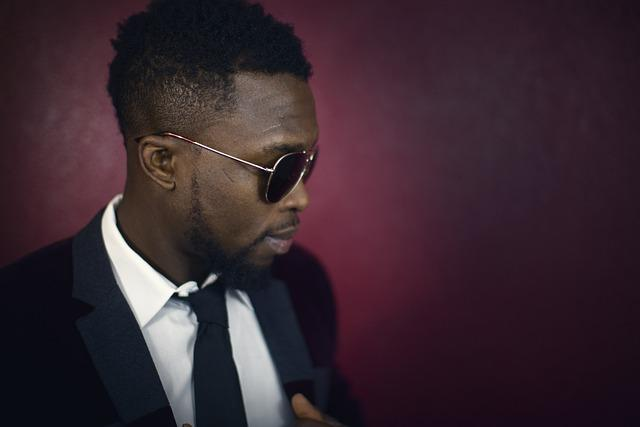Non_Gorille: (13, 3, 371, 427)
